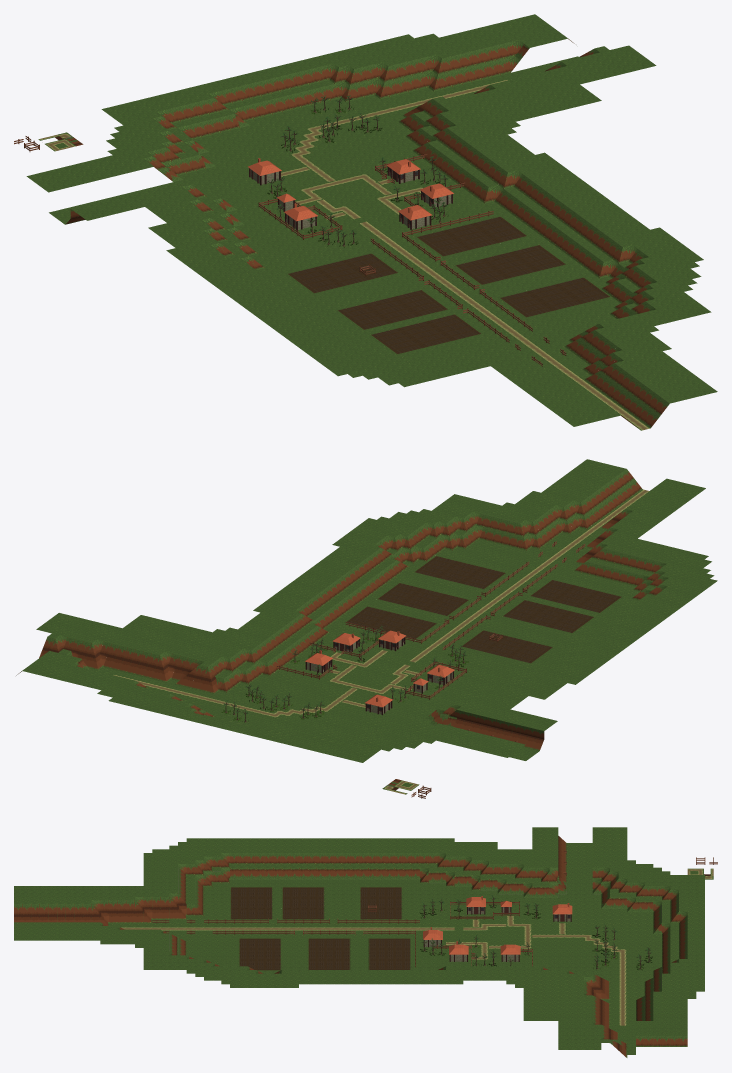
Rendered from Village3.fbx.
The picture shows the model from 3 angles, top to bottom: view 1: azimuth 30°, elevation 25°; view 2: azimuth 150°, elevation 25°; view 3: azimuth 270°, elevation 25°; orthographic projection. The views are drawn at different scales.
Visible parts, largest first — view 1: GroundModule, Farm1, Farm2.001, Farm3.001, Farm2, Farm3, Farm4; view 2: GroundModule, Farm2, Farm3, Farm2.001, Farm3.001, Farm4, Farm1; view 3: GroundModule, Farm3, Farm4, Farm3.001, Farm1, Farm2, Farm2.001.
Part boxes in pixels (bbox=[...]): GroundModule: bbox=[26, 14, 717, 430]; Farm1: bbox=[415, 216, 528, 257]; Farm2.001: bbox=[498, 277, 611, 317]; Farm3.001: bbox=[369, 313, 482, 354]; Farm2: bbox=[454, 244, 567, 285]; Farm3: bbox=[336, 289, 449, 330]; Farm4: bbox=[286, 253, 399, 293]; GroundModule: bbox=[16, 459, 717, 794]; Farm2: bbox=[376, 582, 470, 616]; Farm3: bbox=[501, 599, 595, 633]; Farm2.001: bbox=[413, 555, 506, 589]; Farm3.001: bbox=[529, 579, 622, 613]; Farm4: bbox=[460, 630, 553, 663]; Farm1: bbox=[344, 606, 437, 639]; GroundModule: bbox=[14, 827, 713, 1057]; Farm3: bbox=[281, 887, 324, 919]; Farm4: bbox=[359, 887, 402, 919]; Farm3.001: bbox=[230, 887, 272, 919]; Farm1: bbox=[368, 938, 411, 969]; Farm2: bbox=[307, 938, 350, 969]; Farm2.001: bbox=[238, 938, 281, 970].
Bounding box in the file's own units: 12200 × 408 × 16300.
9 materials, 9 textured.
